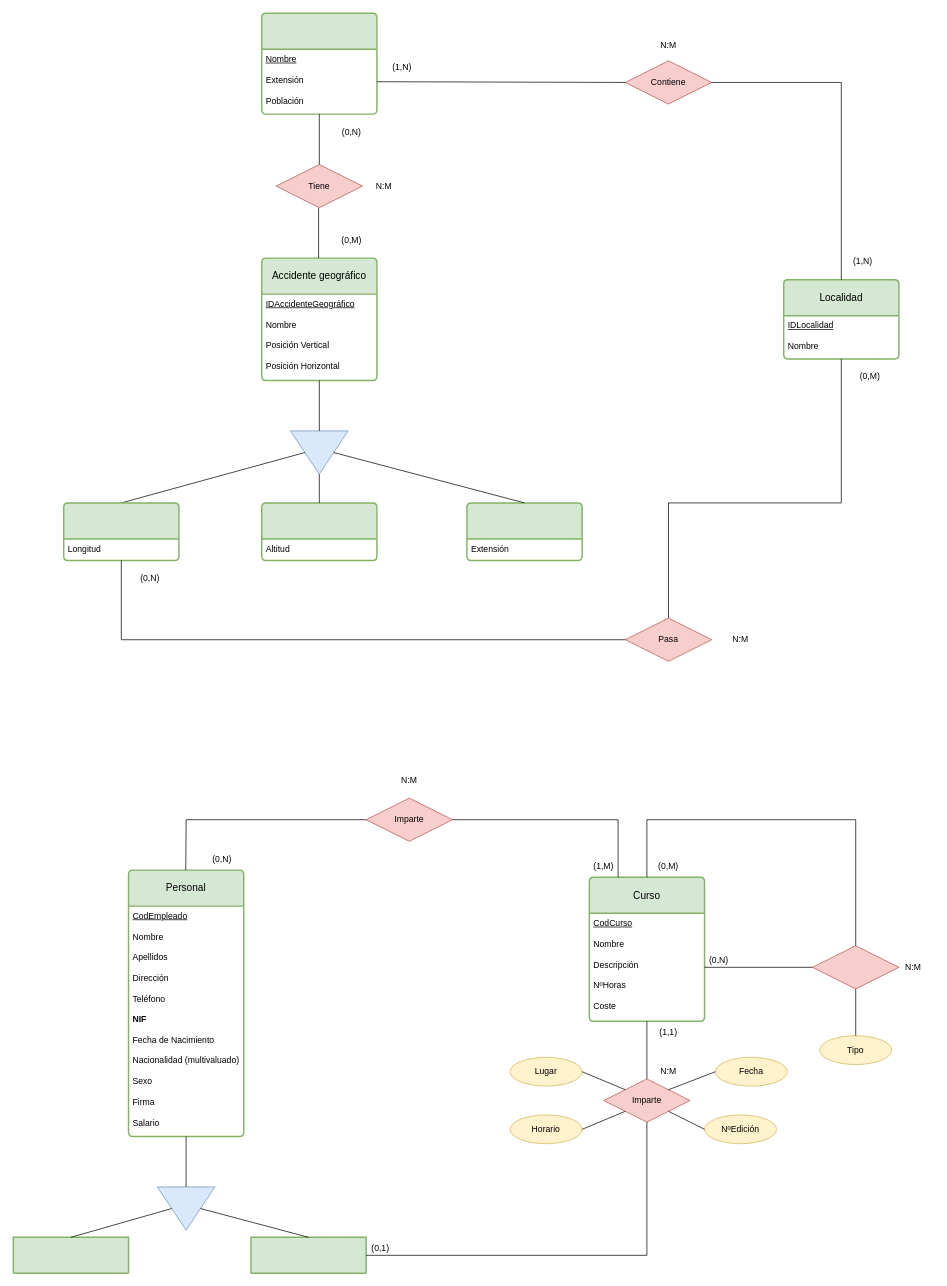
The diagram is 947 pixels wide and 1286 high, and some of its shapes have lost their labels. Each missing label, with the box of its shape:
Capacitado: (250, 1236, 366, 1274)
Lago: (466, 502, 582, 561)
Montaña: (261, 502, 377, 561)
No capacitado: (12, 1236, 129, 1274)
País: (261, 12, 377, 114)
Requiere: (812, 945, 899, 989)
Río: (63, 502, 179, 561)
